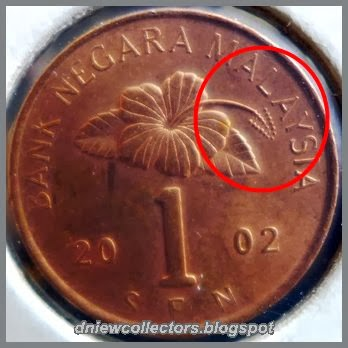1c: (9, 9, 338, 339)
